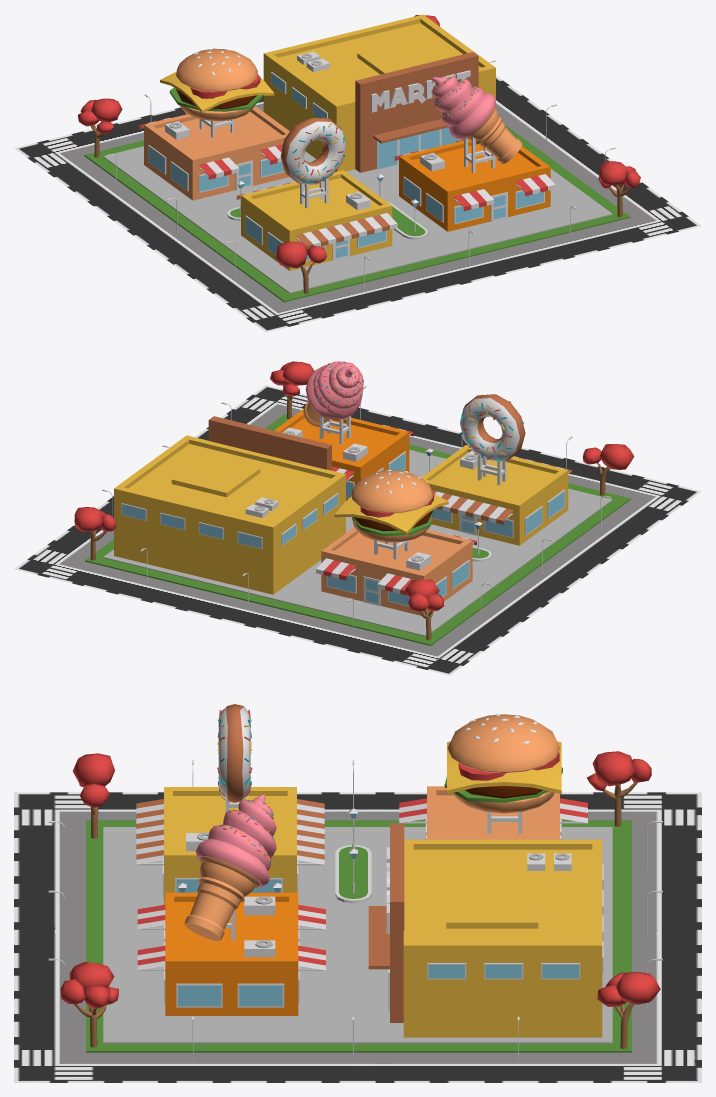
Rendered from CommercialArea.fbx.
The picture shows the model from 3 angles, top to bottom: view 1: azimuth 30°, elevation 25°; view 2: azimuth 150°, elevation 25°; view 3: azimuth 270°, elevation 25°; orthographic projection. The views are drawn at different scales.
Visible parts, largest first — view 1: CommercialArea; view 2: CommercialArea; view 3: CommercialArea.
Boxes of the visible parts, x1=… form: CommercialArea: x1=14, y1=14, x2=701, y2=332; CommercialArea: x1=14, y1=361, x2=701, y2=675; CommercialArea: x1=14, y1=704, x2=701, y2=1082.
Bounding box in the file's own units: 1000 × 279 × 1000.
Materials: 2 (2 with a texture image).
